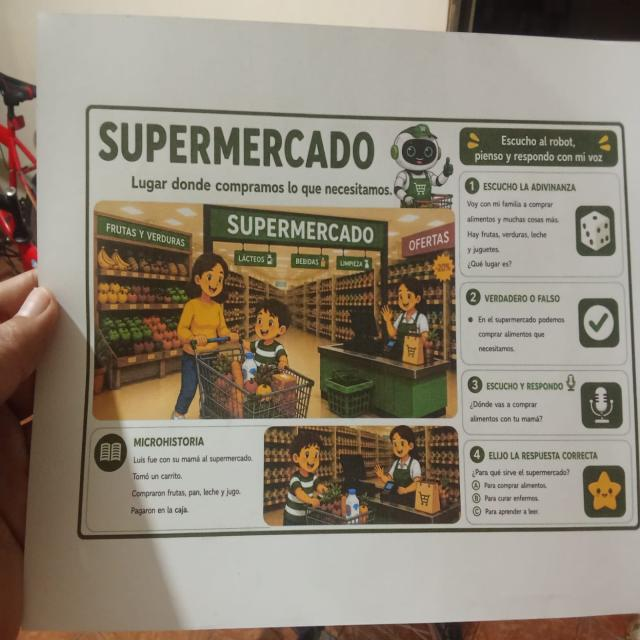supermercado: (73, 97, 640, 548)
